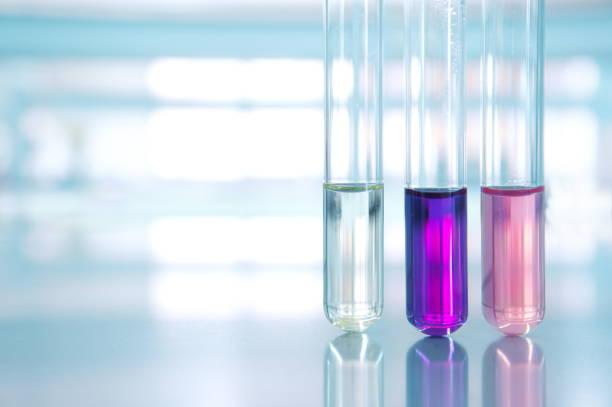Test tube: (481, 2, 550, 335), (400, 4, 467, 346), (318, 1, 385, 334)
